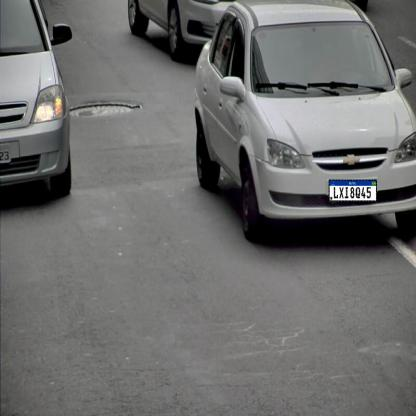PlacaM: (329, 180, 377, 202)
